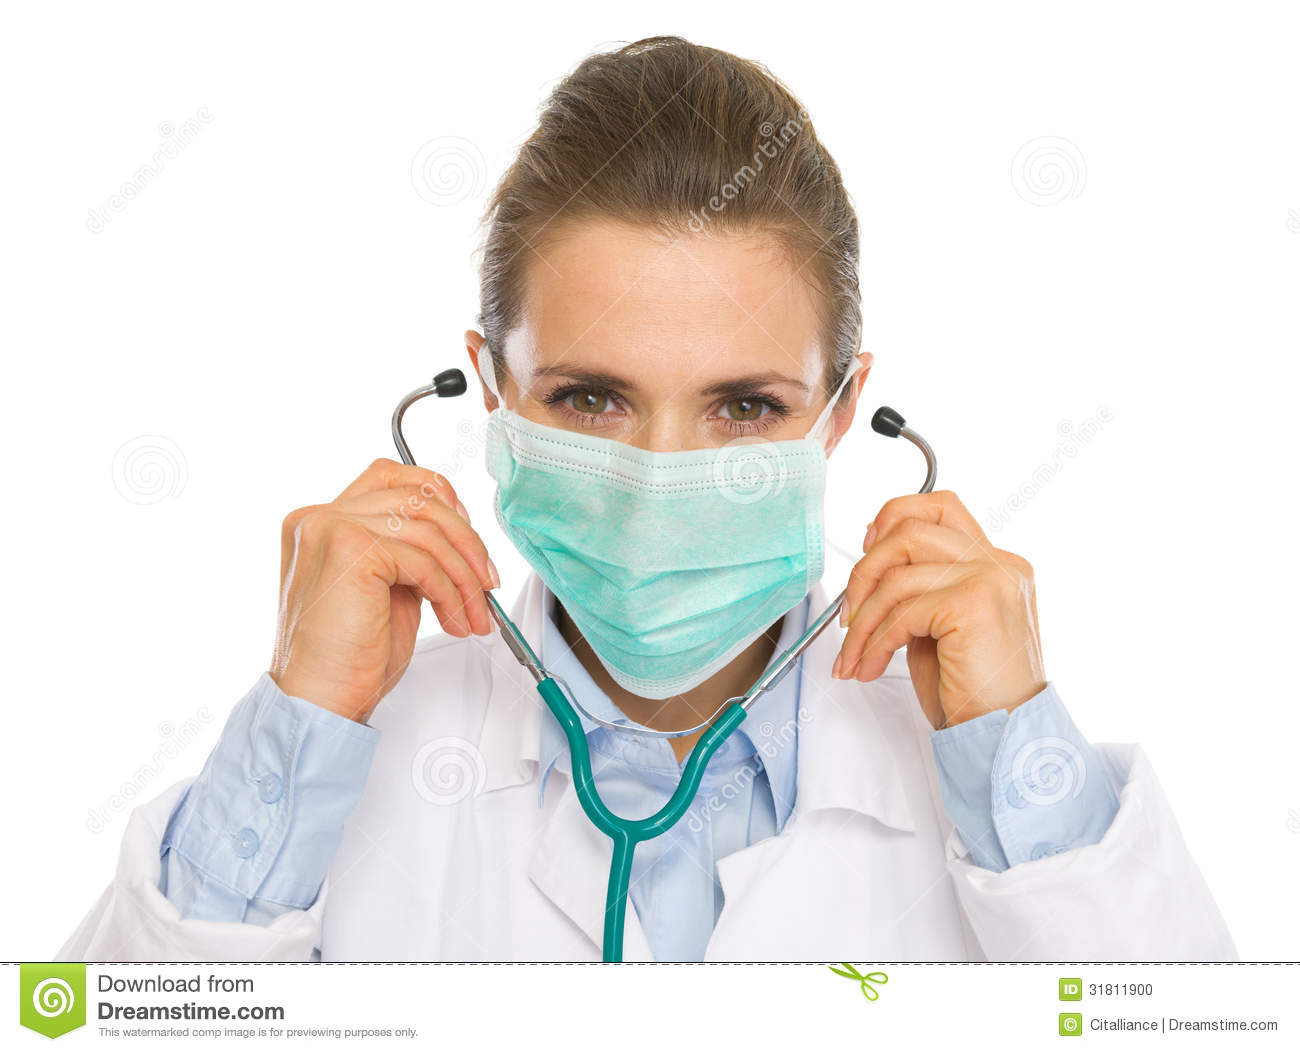mask: (488, 408, 823, 706)
